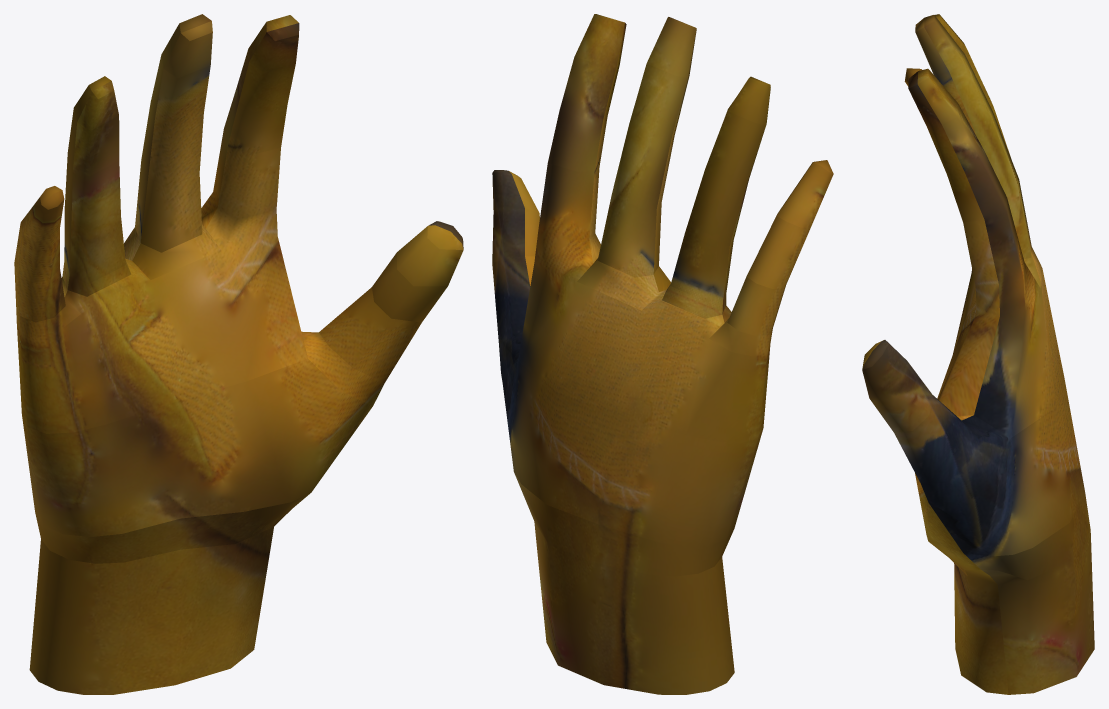
File: Glove.fbx
The picture shows the model from 3 angles, left to right: view 1: azimuth 30°, elevation 25°; view 2: azimuth 150°, elevation 25°; view 3: azimuth 270°, elevation 25°; orthographic projection. The views are drawn at different scales.
Parts seen in each view (by area): view 1: polySurface3; view 2: polySurface3; view 3: polySurface3.
Boxes of the visible parts, x1,y1,x2,y2 form: polySurface3: (14, 14, 463, 694); polySurface3: (492, 14, 833, 694); polySurface3: (862, 14, 1094, 694).
Bounding box in the file's own units: 51.77 × 83.5 × 27.75.
1 material, 1 textured.
